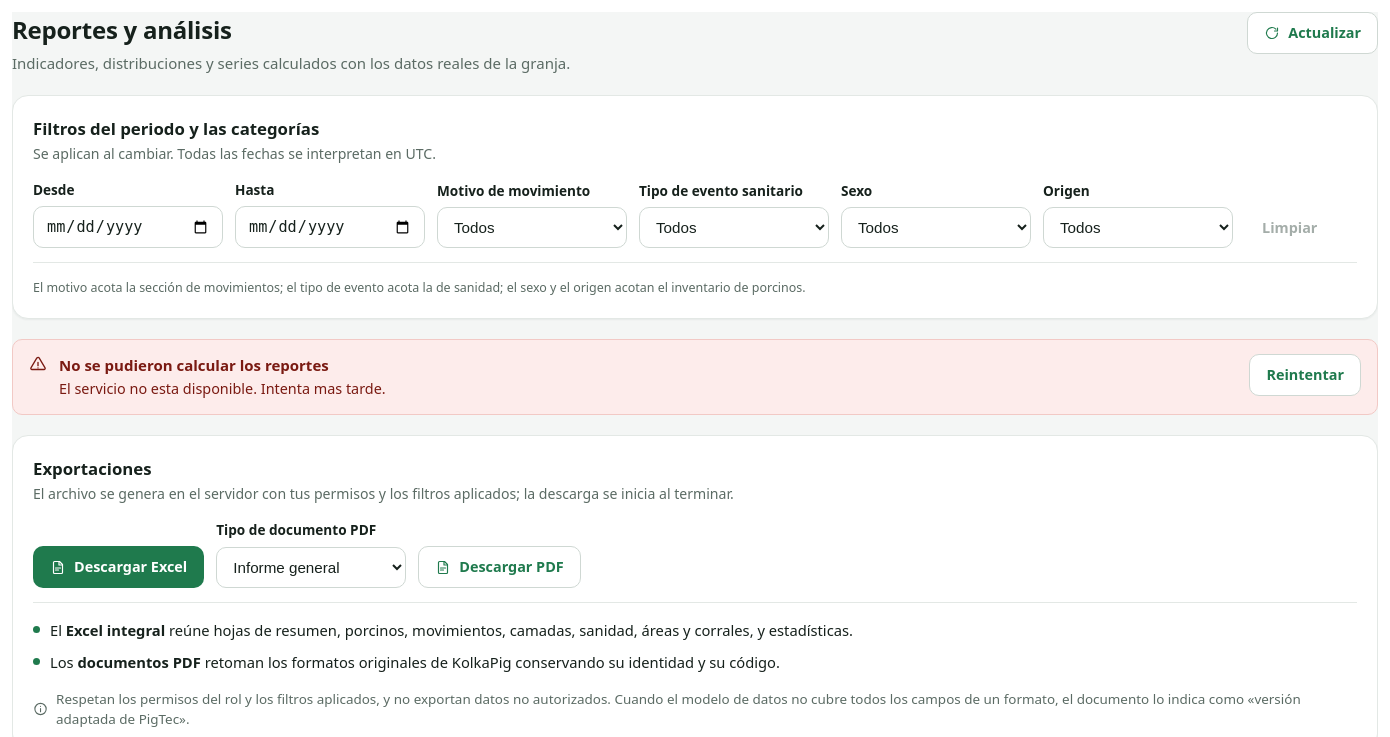
Test: ReportsPage: fallos de API › muestra el error y permite reintentar
Check: the text "No se pudieron calcular los reportes" is shown, box left=59, top=355, right=329, bottom=375
Check: the text "El servicio no esta disponible. Intenta mas tarde." is shown, box left=59, top=379, right=386, bottom=398
Click the button "Reintentar" at [1305, 375], box left=1250, top=354, right=1361, bottom=396
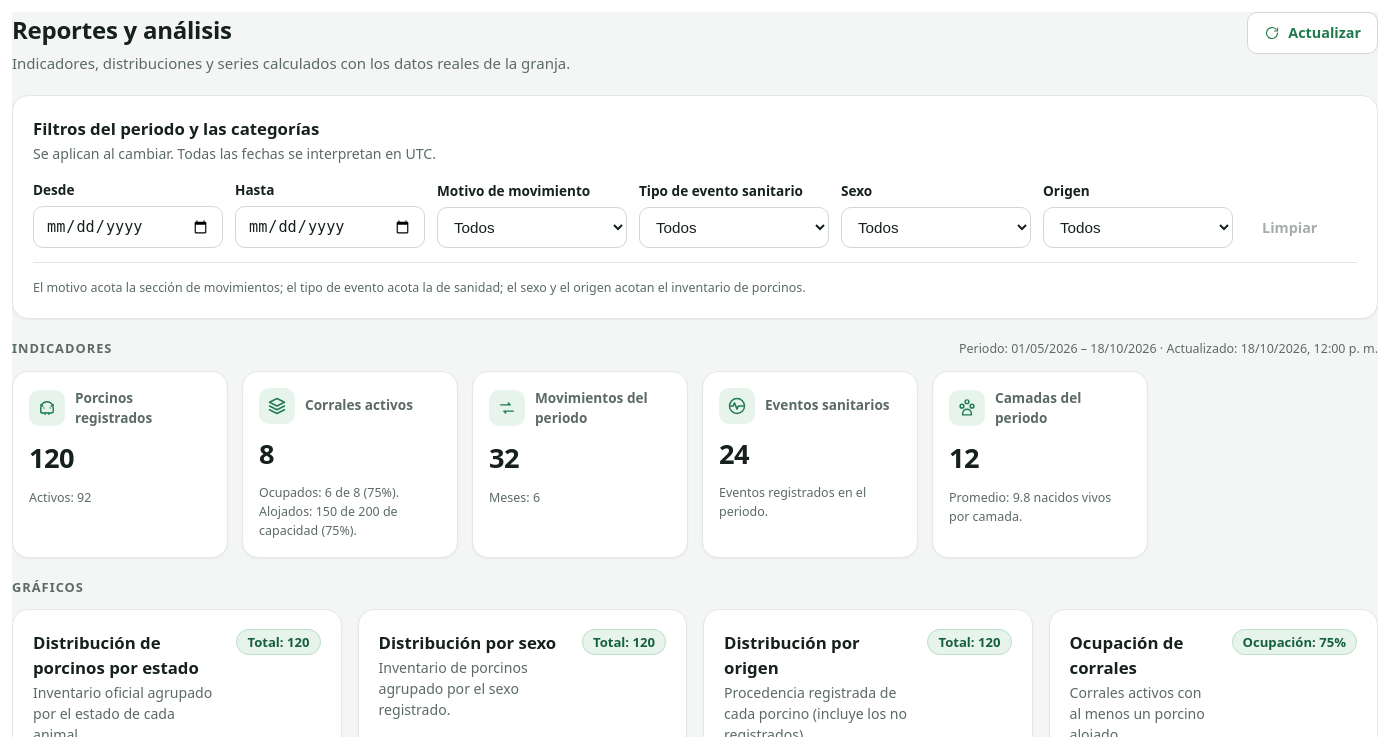
Check: the heading "Distribución de porcinos por estado" is shown, box left=33, top=630, right=220, bottom=680
